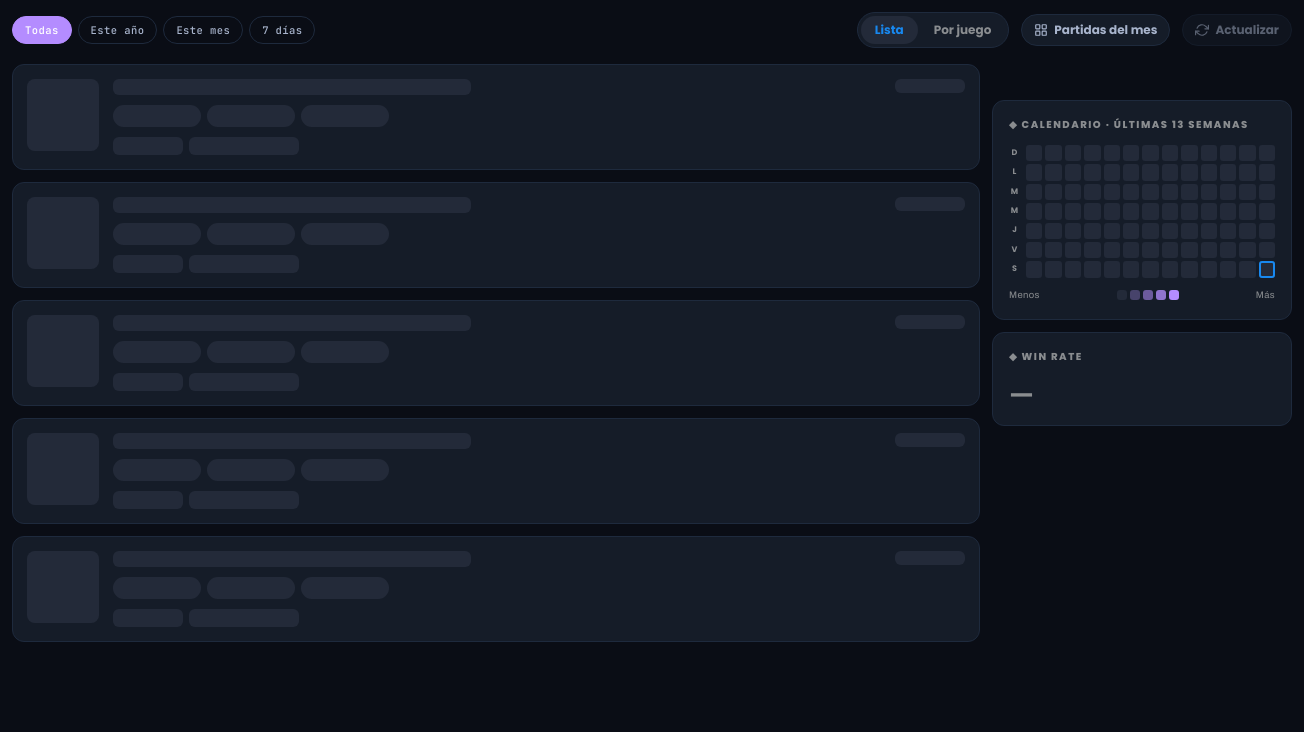
Scenario: <PartidasPanel> › shows played games even when the collection is empty (private collection case)
Click the button "Por juego".
click(962, 30)  # box [920, 16, 1005, 44]
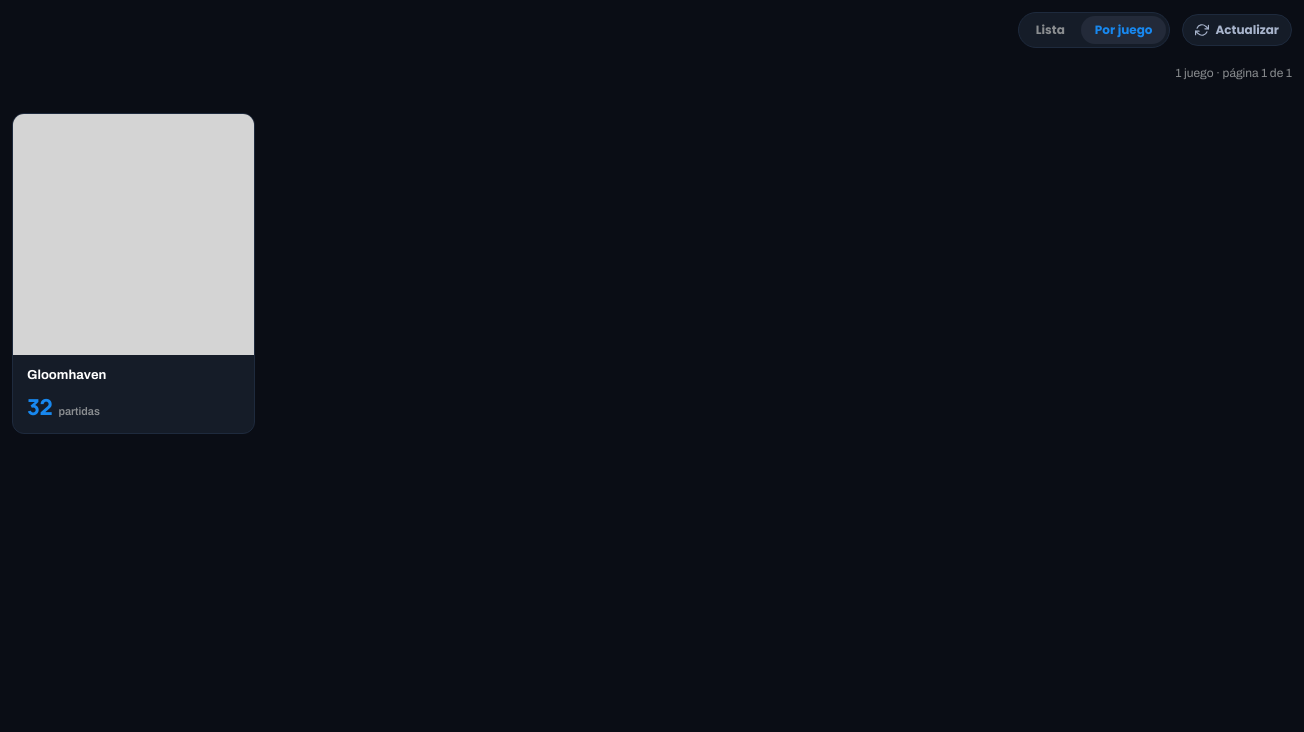
Check: the text "Gloomhaven" is shown, box [27, 368, 106, 382]
